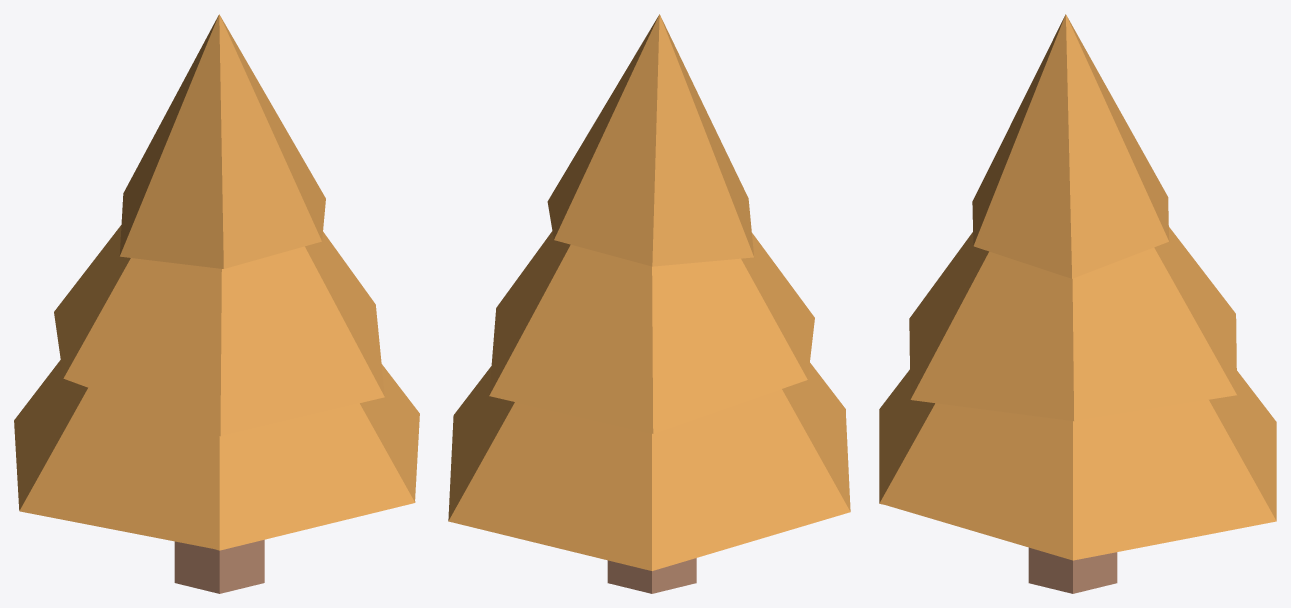
Rendered from Creamy_Cone_Tree_1.fbx.
The picture shows the model from 3 angles, left to right: view 1: azimuth 30°, elevation 25°; view 2: azimuth 150°, elevation 25°; view 3: azimuth 270°, elevation 25°; orthographic projection.
Visible parts, largest first — view 1: mergedBlocks; view 2: mergedBlocks; view 3: mergedBlocks.
Part boxes in pixels (x1,y1,x2,y2): mergedBlocks: (14, 14, 419, 593); mergedBlocks: (448, 14, 850, 593); mergedBlocks: (879, 14, 1276, 593).
Bounding box in the file's own units: 12.45 × 16.67 × 10.79.
